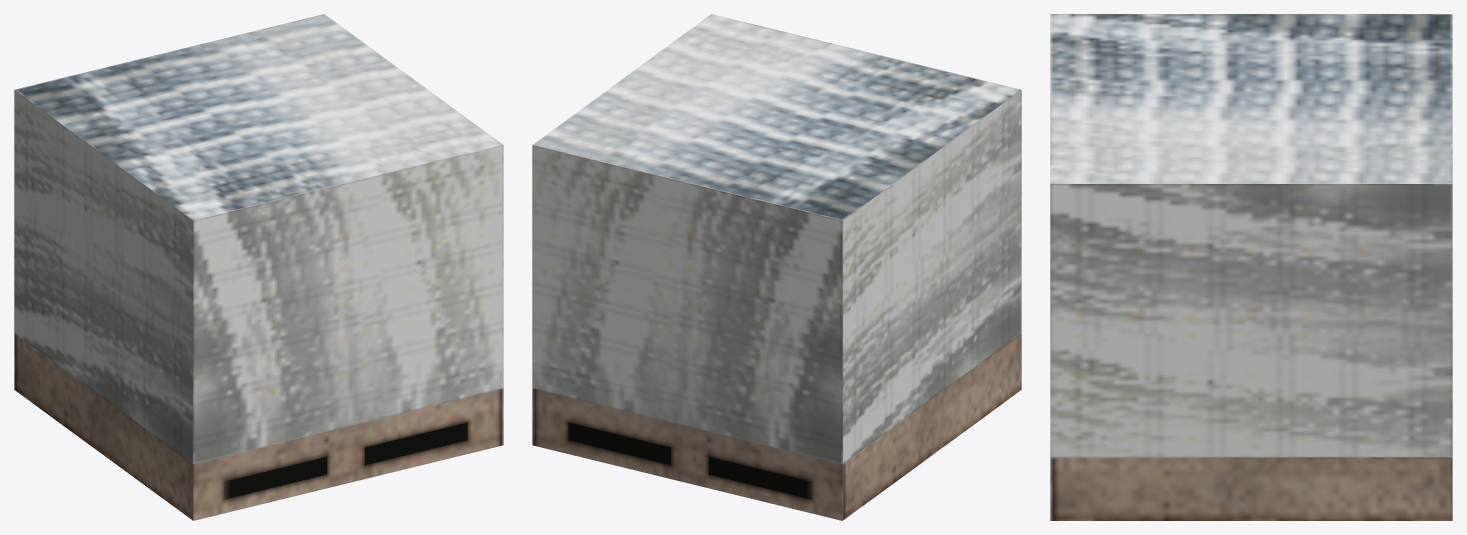
Rendered from PaletteMoney01D.obj.
The picture shows the model from 3 angles, left to right: view 1: azimuth 30°, elevation 25°; view 2: azimuth 150°, elevation 25°; view 3: azimuth 270°, elevation 25°; orthographic projection. The views are drawn at different scales.
Visible parts, largest first — view 1: PaletteMoney01D; view 2: PaletteMoney01D; view 3: PaletteMoney01D.
Boxes of the visible parts, bbox=[...] form: PaletteMoney01D: bbox=[14, 14, 503, 520]; PaletteMoney01D: bbox=[532, 14, 1021, 520]; PaletteMoney01D: bbox=[1050, 14, 1452, 520].
Size of the model in its own units: 2 by 1.85 by 2.
